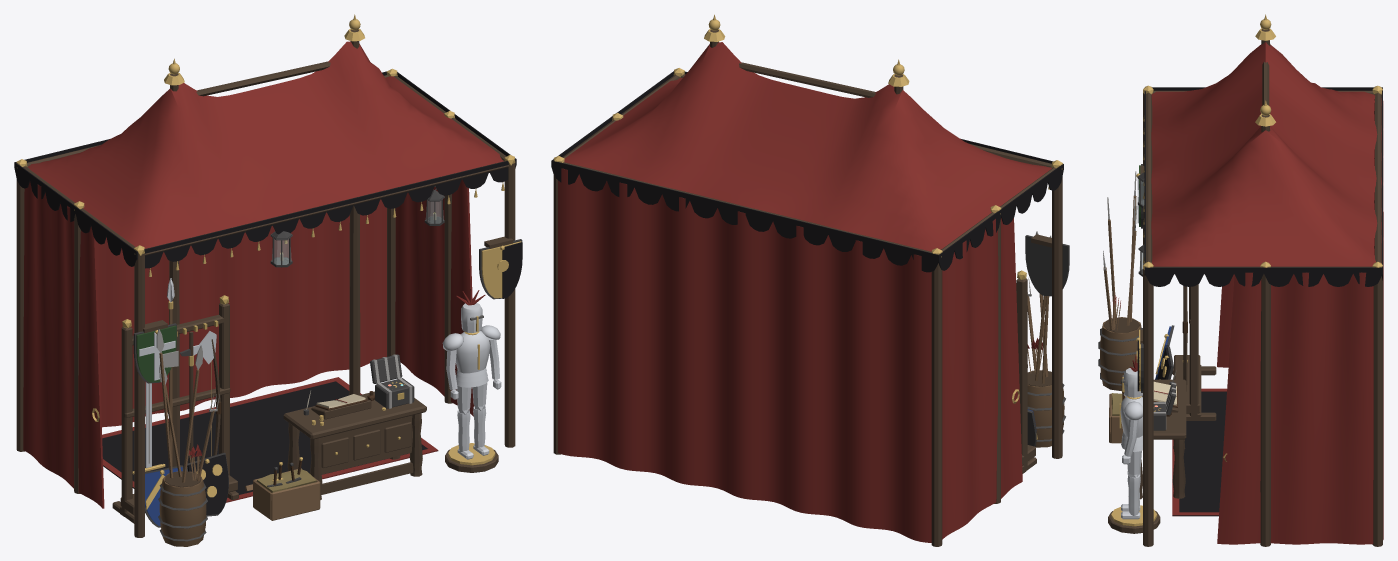
File: stand_armsbroker.glb
3 renders of one model, left to right at view 1: azimuth 30°, elevation 25°; view 2: azimuth 150°, elevation 25°; view 3: azimuth 270°, elevation 25°, orthographic. The views are drawn at different scales.
Visible parts, largest first — view 1: stand_armsbroker; view 2: stand_armsbroker; view 3: stand_armsbroker.
Boxes of the visible parts, x1,y1,x2,y2 form: stand_armsbroker: [14, 14, 522, 546]; stand_armsbroker: [551, 14, 1069, 546]; stand_armsbroker: [1098, 14, 1383, 546].
Size of what is drawn, in the model's own units: 4.93 by 5.04 by 3.23.
